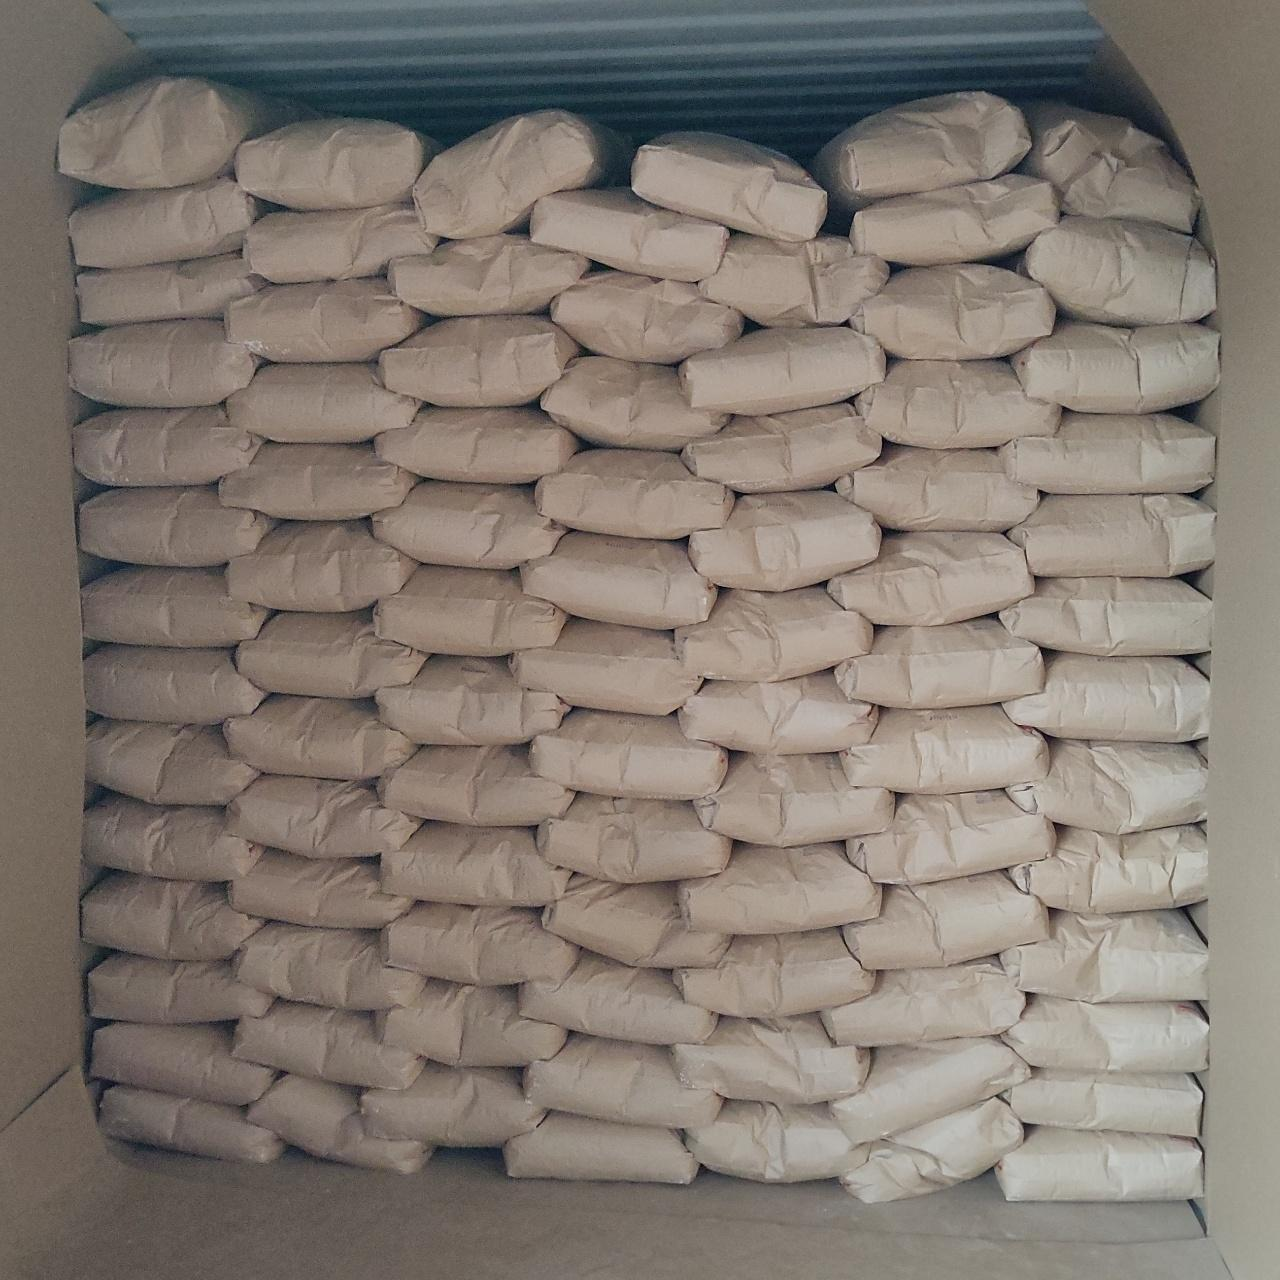sack: (57, 75, 316, 188), (413, 110, 632, 238), (811, 91, 1030, 210), (1021, 102, 1199, 232), (1017, 217, 1216, 326), (631, 132, 826, 240), (828, 1037, 1029, 1141), (845, 789, 1055, 885), (843, 871, 1048, 968), (850, 264, 1055, 360), (69, 176, 278, 268), (1009, 320, 1218, 413), (688, 490, 881, 590), (1007, 738, 1207, 835), (828, 532, 1033, 626), (839, 1097, 1023, 1201), (676, 585, 873, 682), (1001, 910, 1207, 1002), (850, 175, 1058, 266), (520, 531, 716, 628), (835, 618, 1044, 708), (679, 842, 881, 934), (510, 617, 702, 714), (1003, 652, 1210, 742), (519, 951, 717, 1044), (856, 358, 1061, 448), (840, 704, 1048, 794), (530, 188, 729, 280), (694, 754, 892, 846), (379, 315, 579, 407), (550, 270, 743, 363), (822, 956, 1024, 1046), (530, 708, 727, 799), (224, 275, 431, 362), (234, 118, 434, 209), (524, 1035, 720, 1126), (680, 327, 886, 414), (999, 411, 1216, 493), (682, 404, 881, 493), (247, 1075, 429, 1172), (674, 930, 874, 1017), (374, 565, 566, 656), (672, 1013, 869, 1102), (535, 451, 734, 539), (542, 356, 728, 450), (226, 520, 417, 612), (835, 445, 1039, 531), (536, 794, 731, 883), (1009, 825, 1206, 913), (699, 234, 888, 325), (69, 318, 261, 407), (374, 656, 568, 743), (234, 610, 425, 697), (372, 481, 565, 567), (232, 1001, 422, 1089), (1000, 577, 1212, 655), (1008, 496, 1213, 577), (232, 922, 421, 1010), (377, 979, 566, 1065), (388, 234, 590, 315), (679, 670, 877, 753), (381, 903, 579, 985), (380, 821, 571, 905), (542, 881, 729, 967), (359, 1062, 546, 1148), (82, 872, 264, 960), (244, 200, 438, 282), (223, 696, 417, 778), (79, 486, 275, 567), (375, 406, 580, 483), (227, 775, 421, 857), (82, 794, 263, 881), (1002, 995, 1207, 1073), (379, 745, 574, 826), (72, 406, 264, 486), (227, 362, 422, 442), (219, 443, 418, 520), (91, 1023, 279, 1105), (996, 1126, 1201, 1201), (83, 567, 274, 647), (685, 1099, 869, 1182), (86, 719, 258, 805), (229, 847, 413, 928), (84, 645, 267, 724), (100, 1085, 282, 1162), (504, 1112, 699, 1184), (1002, 1068, 1201, 1137), (77, 254, 268, 326), (89, 952, 273, 1024)
